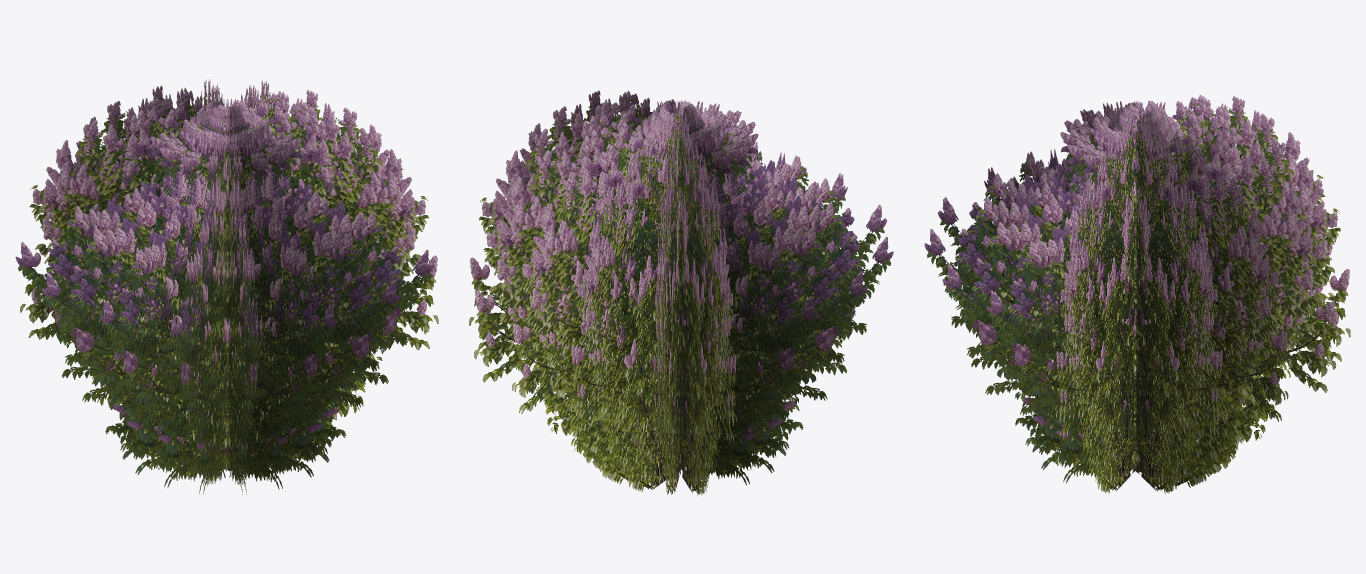
File: bush4.fbx
3 views of the same model, side by side, from view 1: azimuth 30°, elevation 25°; view 2: azimuth 150°, elevation 25°; view 3: azimuth 270°, elevation 25° (orthographic).
Visible parts, largest first — view 1: bush4.002; view 2: bush4.002; view 3: bush4.002.
Boxes of the visible parts, bbox=[...] form: bush4.002: bbox=[15, 79, 438, 494]; bush4.002: bbox=[469, 90, 893, 495]; bush4.002: bbox=[924, 95, 1350, 494].
Bounding box in the file's own units: 10.11 × 9.51 × 10.11.
Materials: 1 (1 with a texture image).
